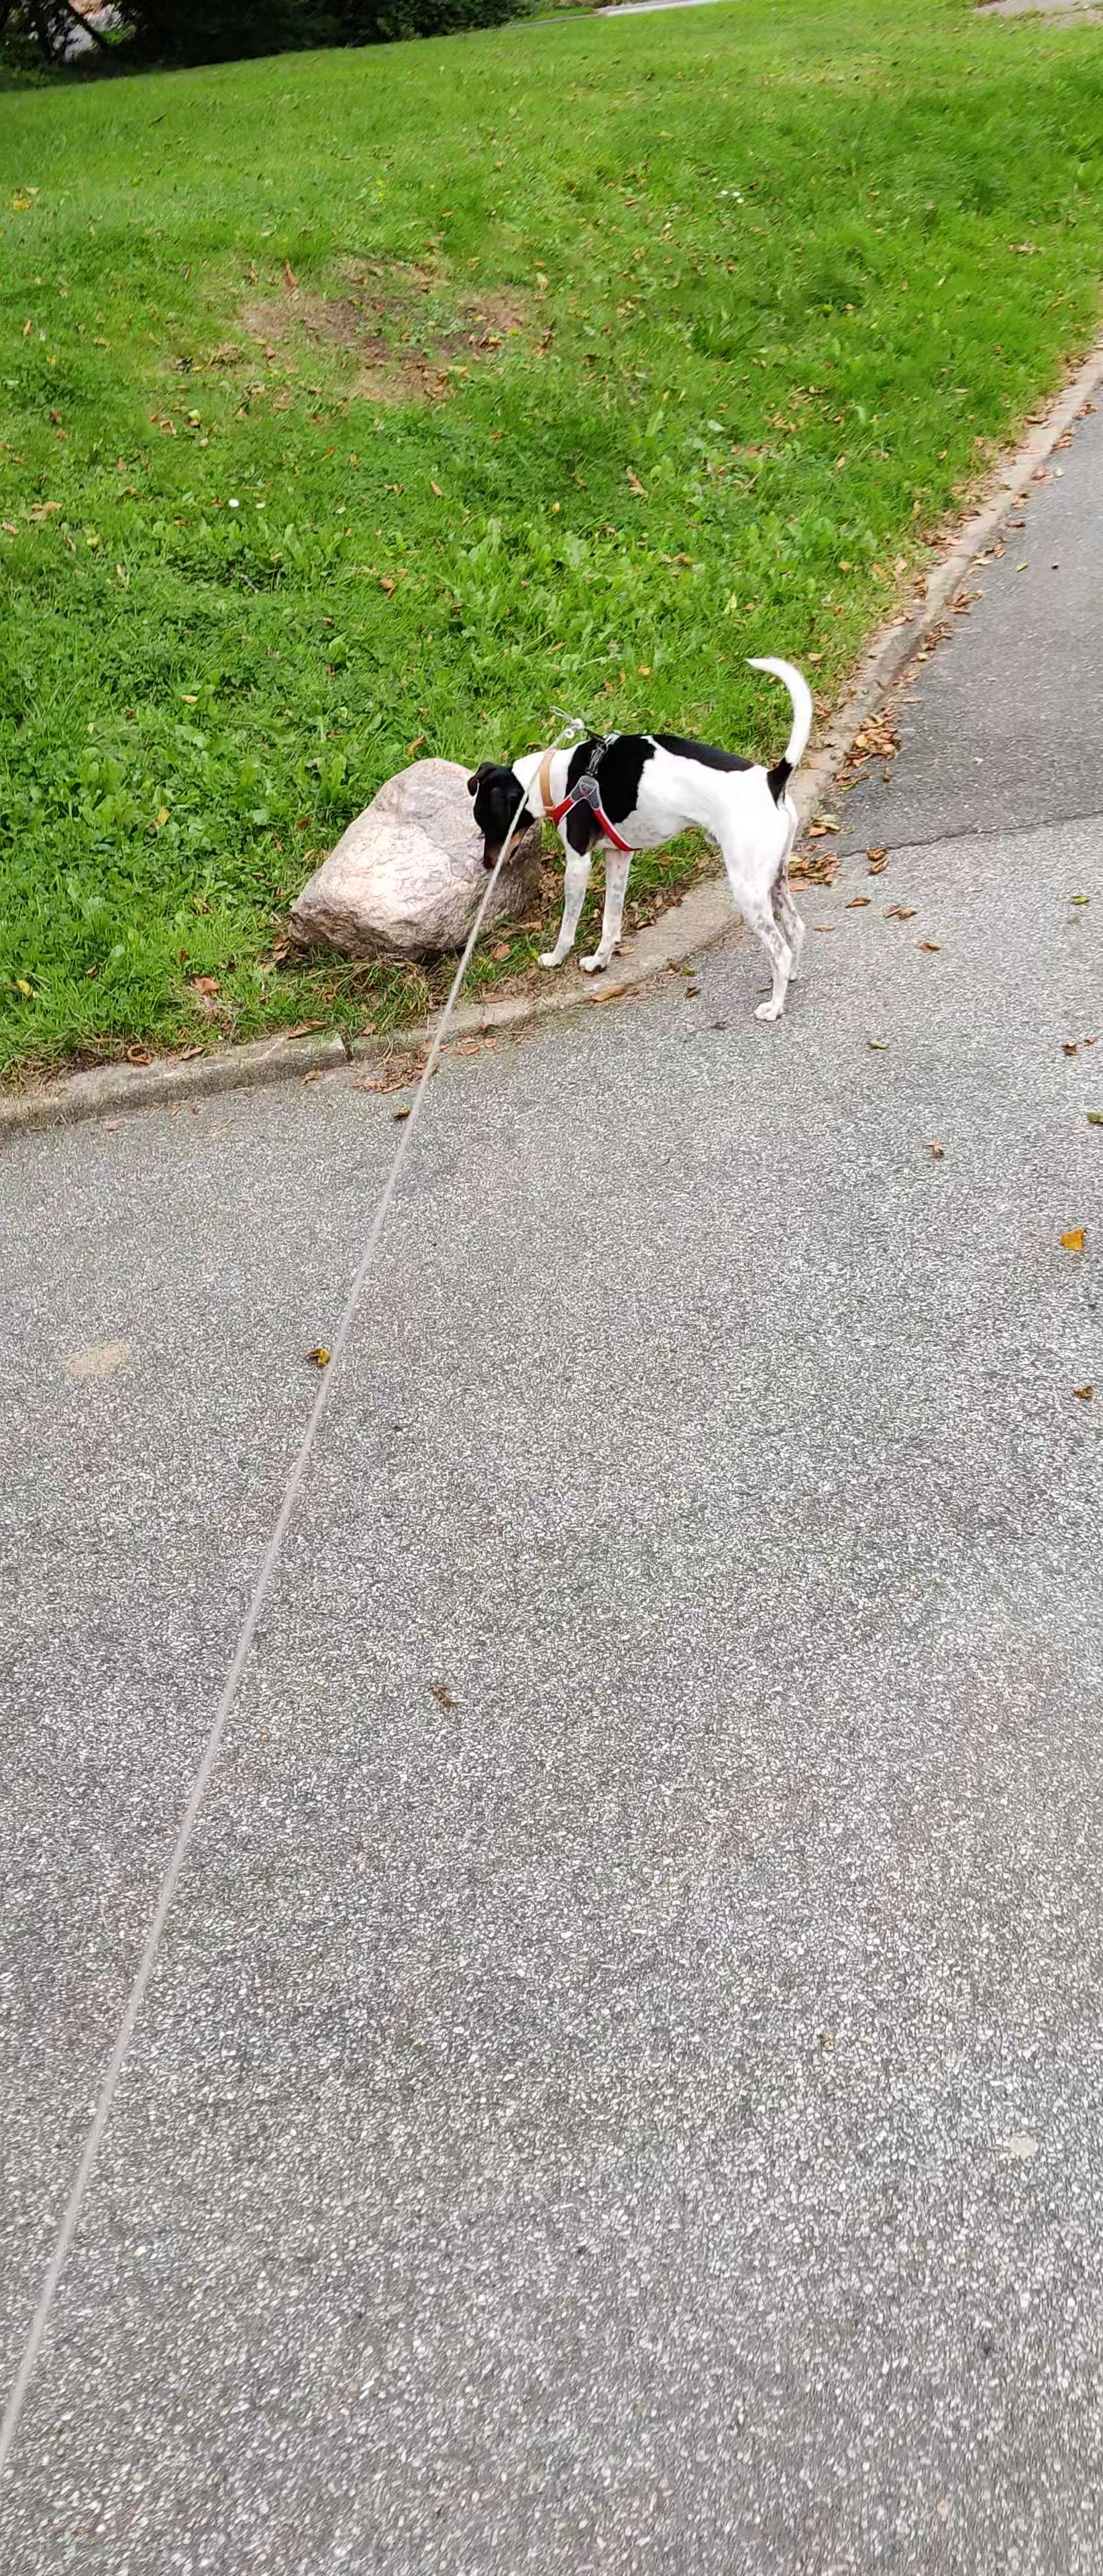Dog: (462, 647, 827, 1023)
